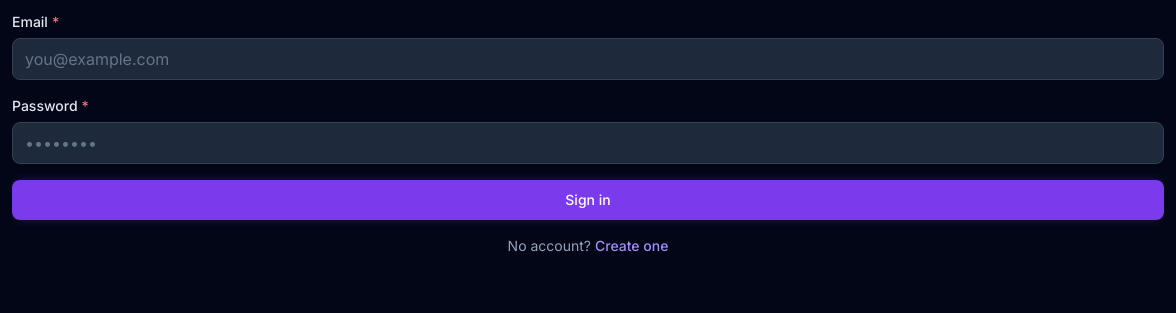
Test case: LoginForm › shows validation errors when submitted with empty fields
Click the button "Sign in".
click(588, 200)  # box [12,180,1164,220]
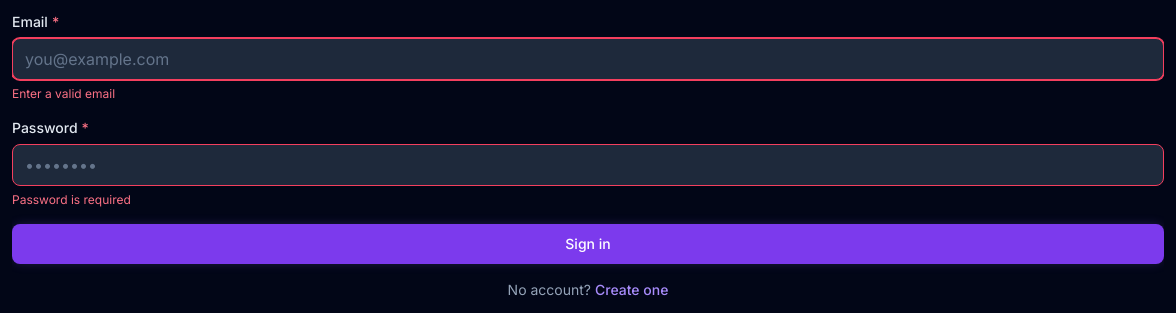
Check: the text "Enter a valid email" is shown, box [12,86,115,101]
Check: the text "Password is required" is shown, box [12,192,131,207]
